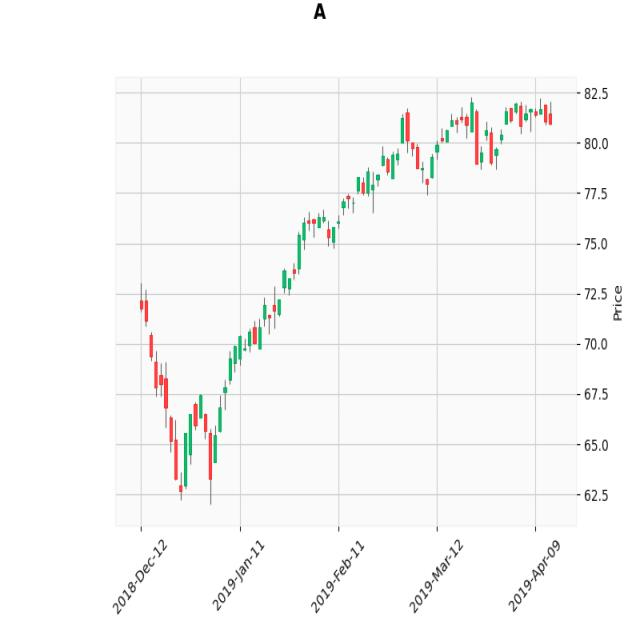Double-Bottom: (149, 347, 240, 504)
